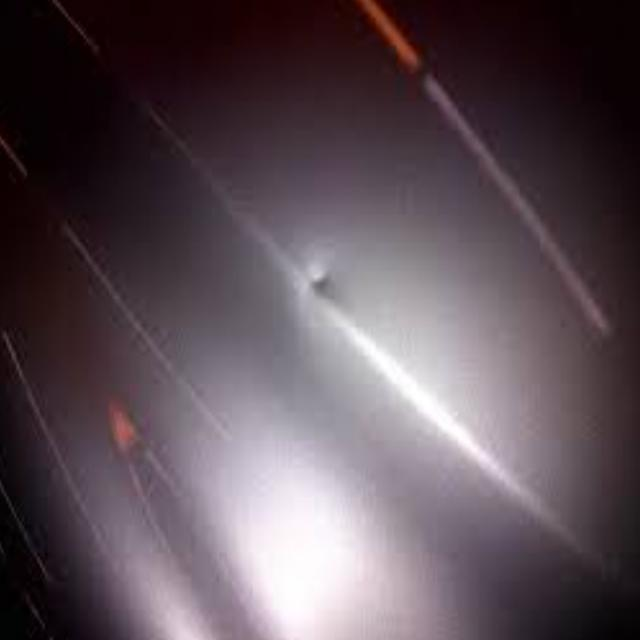dents: (279, 232, 355, 336)
